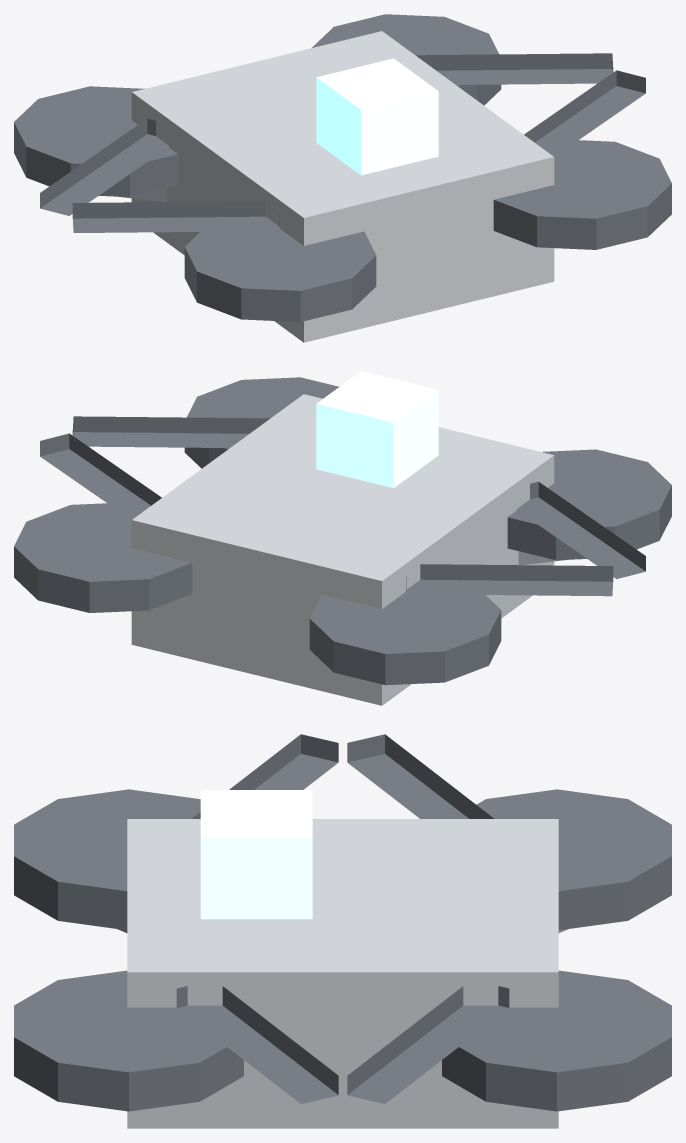
The model's file is drone.glb.
The picture shows the model from 3 angles, top to bottom: view 1: azimuth 30°, elevation 25°; view 2: azimuth 150°, elevation 25°; view 3: azimuth 270°, elevation 25°; orthographic projection. The views are drawn at different scales.
Bounding box in the file's own units: 0.9603 × 0.305 × 0.7623.
